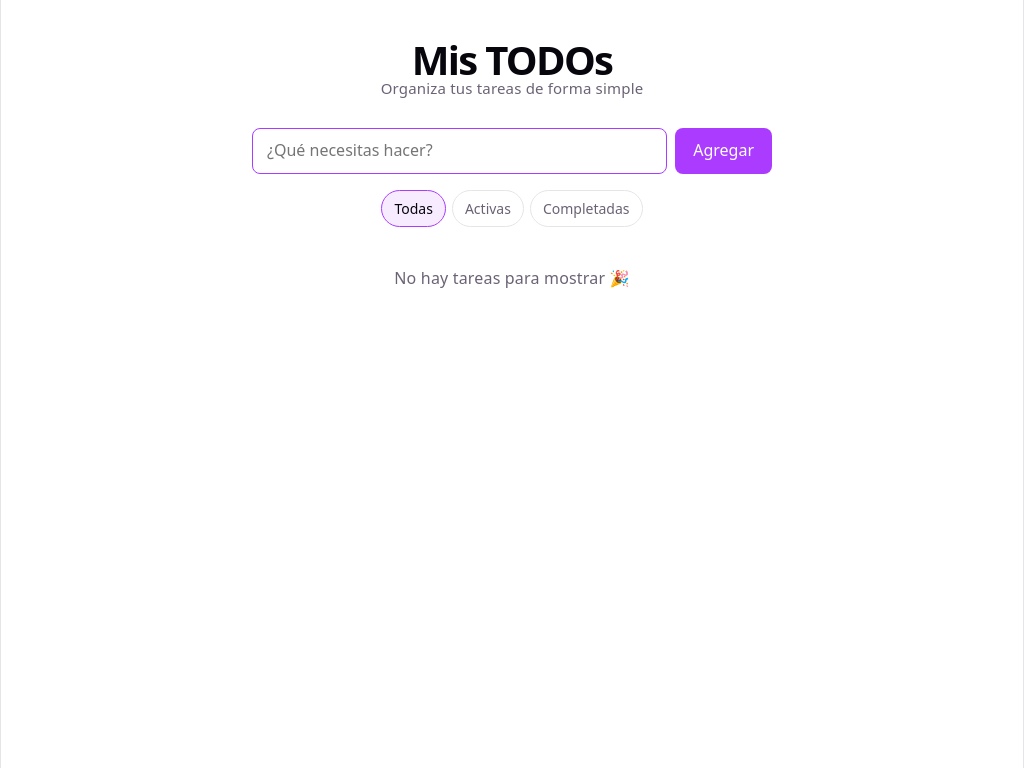
App de TODOs › persiste las tareas en localStorage
Type "Persistente" into the field with placeholder "¿Qué necesitas hacer?".
click(460, 151); type("Persistente")  # box top-left (252, 128), bottom-right (667, 174)
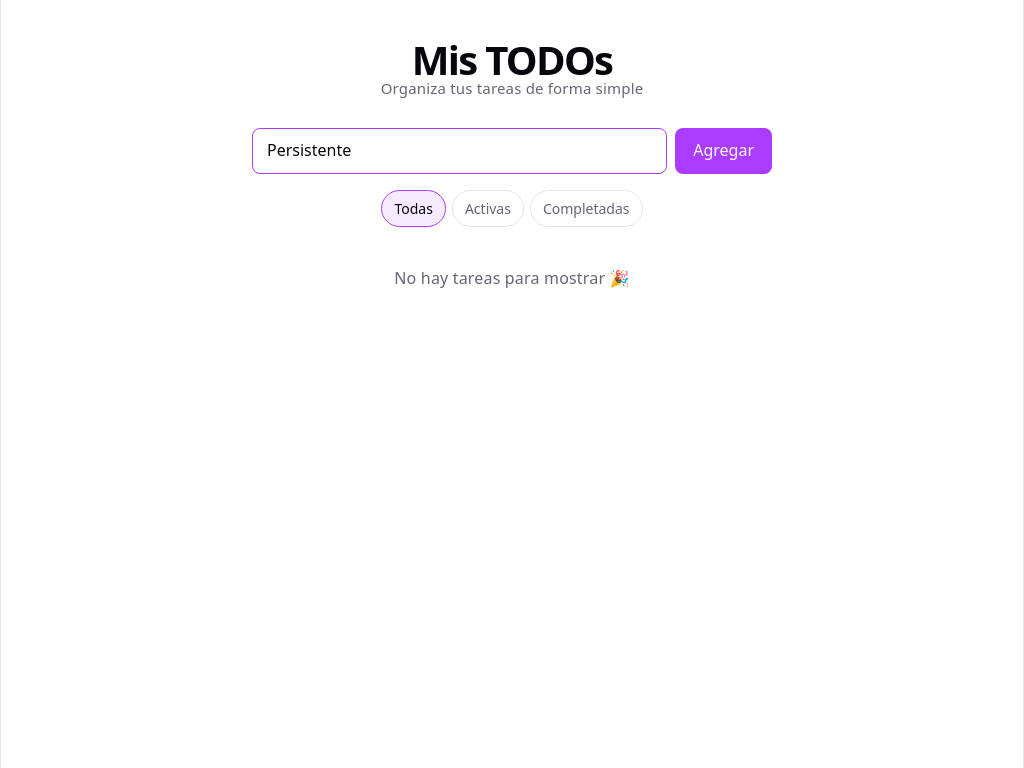
Click the button "Agregar".
click(724, 151)  # box top-left (675, 128), bottom-right (772, 174)
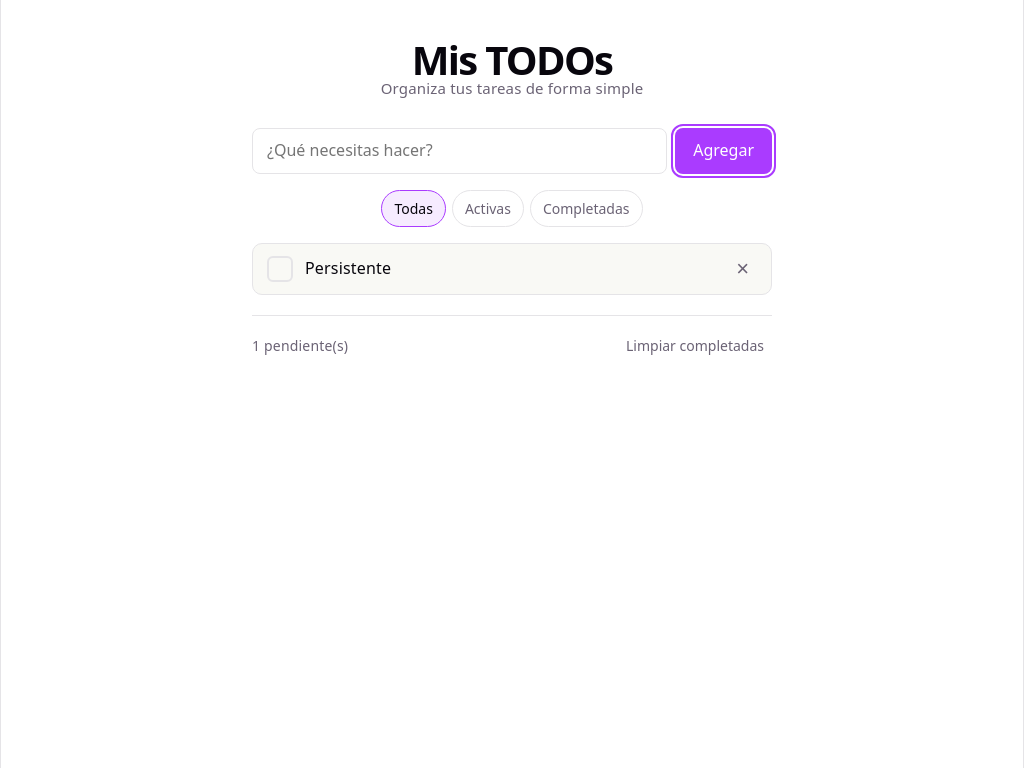
Expected: the text "Persistente" is shown, top-left (305, 257), bottom-right (391, 279)
